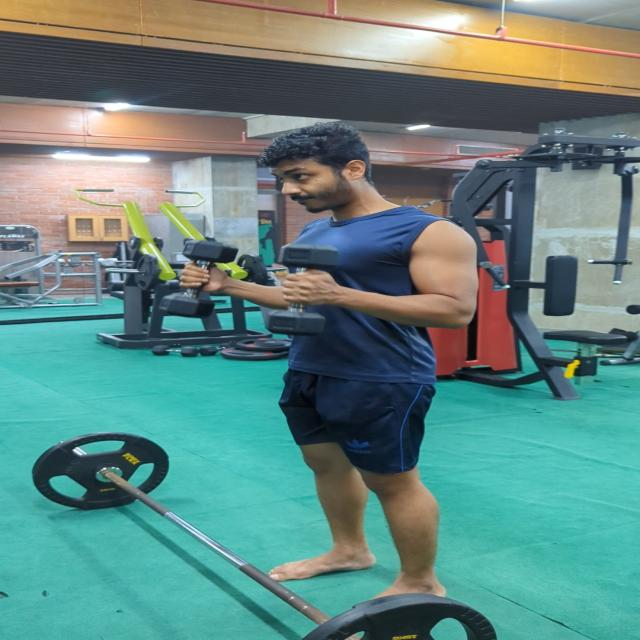Normal_DumbbellBicepCurls: (168, 122, 484, 600)
